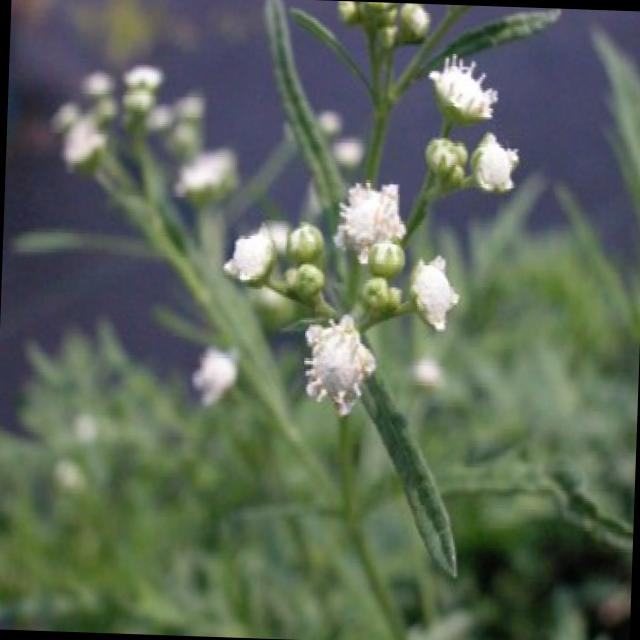Poisonous-Parthenium: (243, 0, 598, 222), (225, 206, 474, 438)
